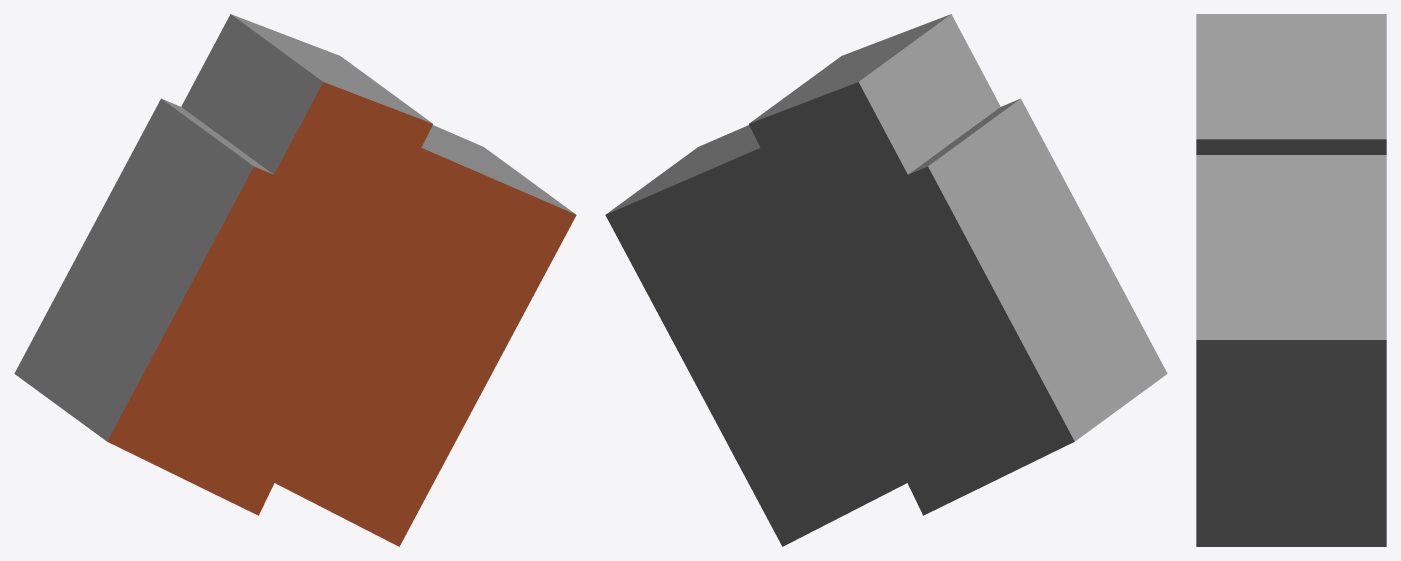
The model's file is construction_2013_assumed_A_Casa_h6m.obj.
3 views of the same model, side by side, from view 1: azimuth 30°, elevation 25°; view 2: azimuth 150°, elevation 25°; view 3: azimuth 270°, elevation 25° (orthographic). The views are drawn at different scales.
Parts seen in each view (by area): view 1: construction_2013_assumed_A_Casa; view 2: construction_2013_assumed_A_Casa; view 3: construction_2013_assumed_A_Casa.
Part boxes in pixels (box(x1,y1,x2,y2)): construction_2013_assumed_A_Casa: box(14, 14, 576, 546); construction_2013_assumed_A_Casa: box(605, 14, 1167, 546); construction_2013_assumed_A_Casa: box(1196, 14, 1386, 546).
Bounding box in the file's own units: 17.51 × 17.24 × 6.
